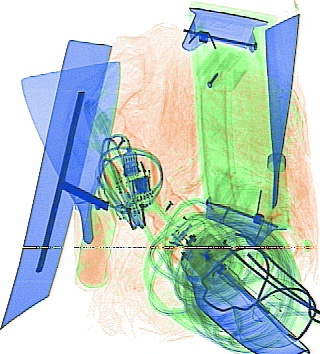modao: (1, 38, 118, 330), (19, 60, 122, 290), (261, 12, 300, 234)
